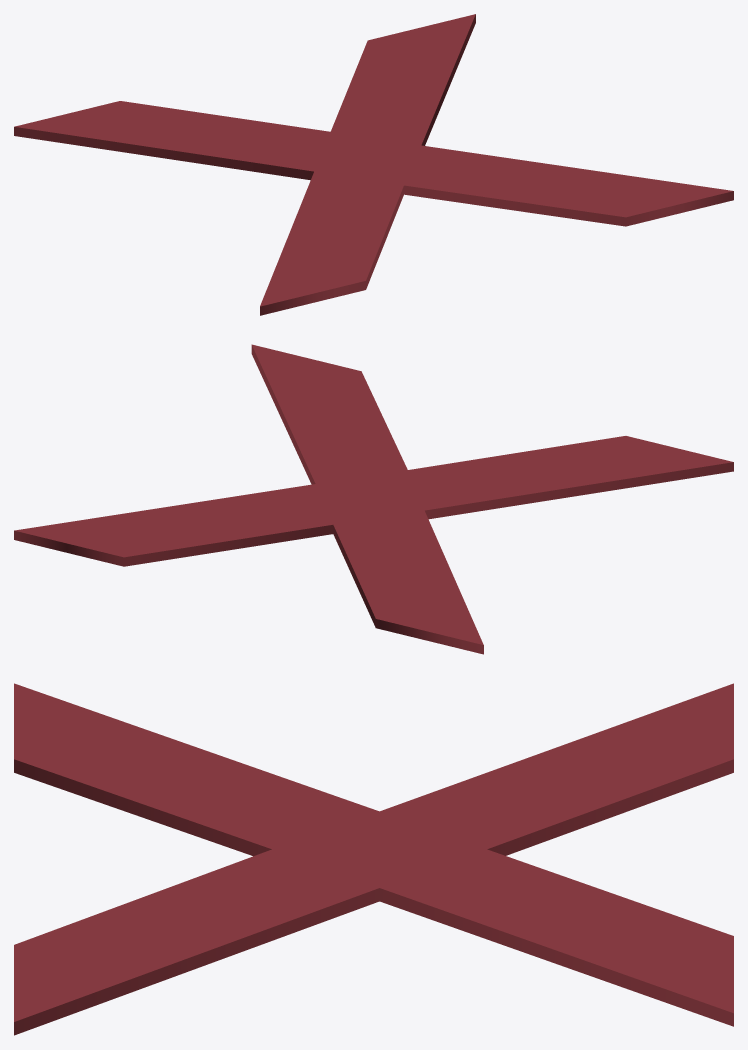
3 views of the same model, one above another, from view 1: azimuth 30°, elevation 25°; view 2: azimuth 150°, elevation 25°; view 3: azimuth 270°, elevation 25° (orthographic). The views are drawn at different scales.
Visible parts, largest first — view 1: Text; view 2: Text; view 3: Text.
Boxes of the visible parts, x1,y1,x2,y2 form: Text: (14,14,733,315); Text: (14,344,733,654); Text: (14,683,733,1035).
Bounding box in the file's own units: 481 × 8.92 × 432.
